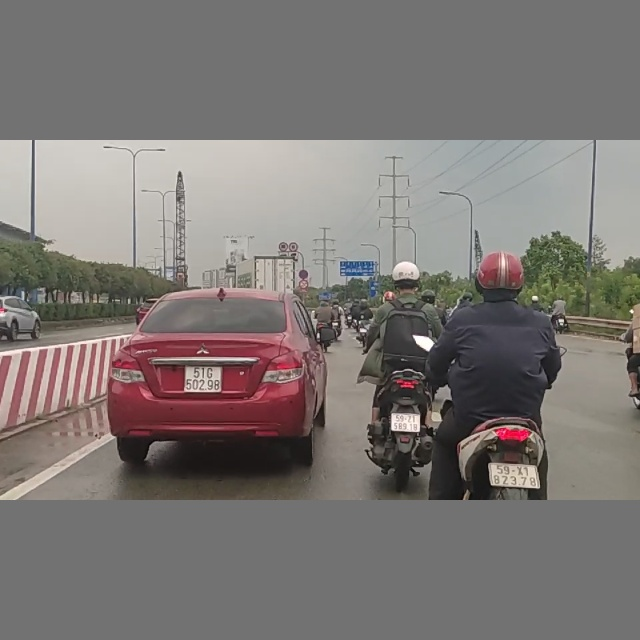P.130: (297, 269, 309, 279)
